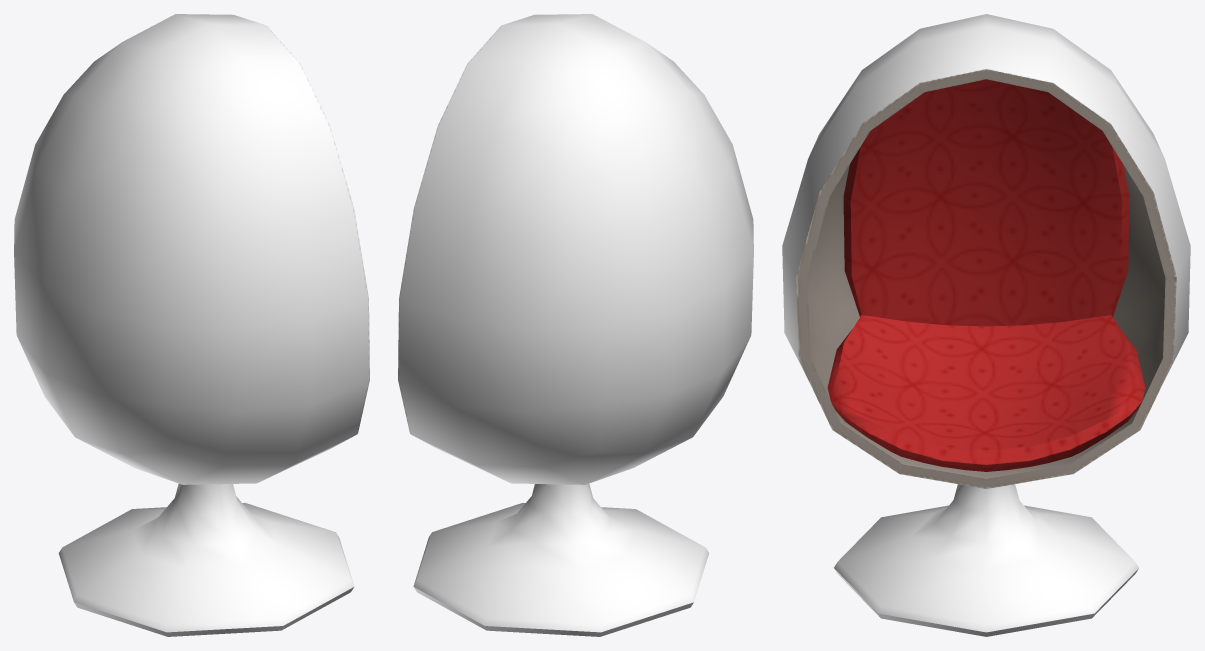
Rendered from PROP_035_SR_Chair.fbx.
3 views of the same model, side by side, from view 1: azimuth 30°, elevation 25°; view 2: azimuth 150°, elevation 25°; view 3: azimuth 270°, elevation 25° (orthographic).
Visible parts, largest first — view 1: Egg_Chair; view 2: Egg_Chair; view 3: Egg_Chair.
Part boxes in pixels (x1,y1,x2,y2): Egg_Chair: [14, 14, 369, 636]; Egg_Chair: [398, 14, 753, 636]; Egg_Chair: [782, 14, 1190, 636].
Size of the model in its own units: 0.9555 by 1.7 by 1.14.
Materials: 1 (1 with a texture image).
